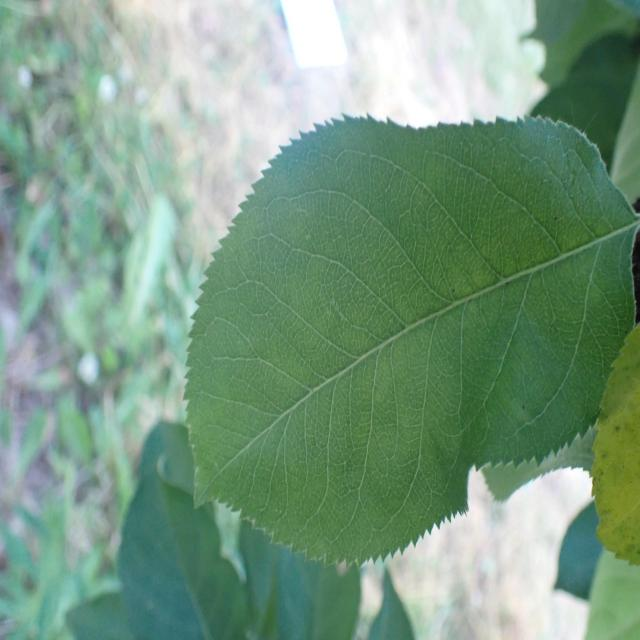healthy: (182, 111, 640, 568), (590, 323, 640, 565)
